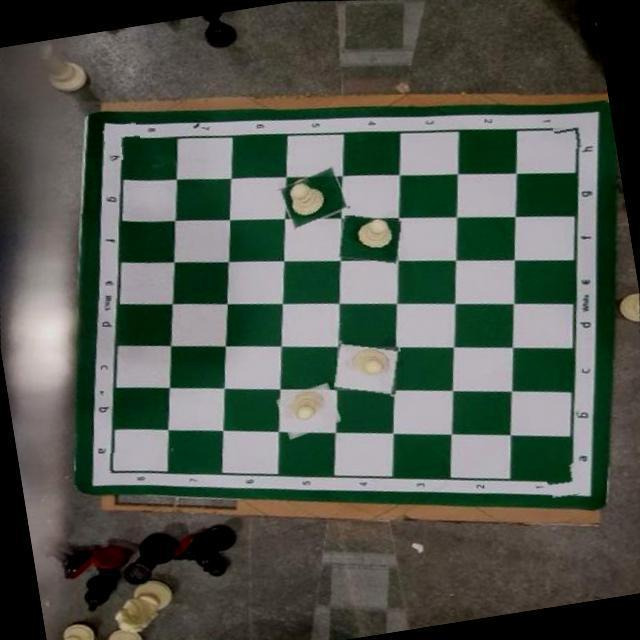chess-table-corners: (100, 121, 144, 163), (544, 461, 588, 501), (553, 115, 595, 151), (100, 450, 130, 488)
